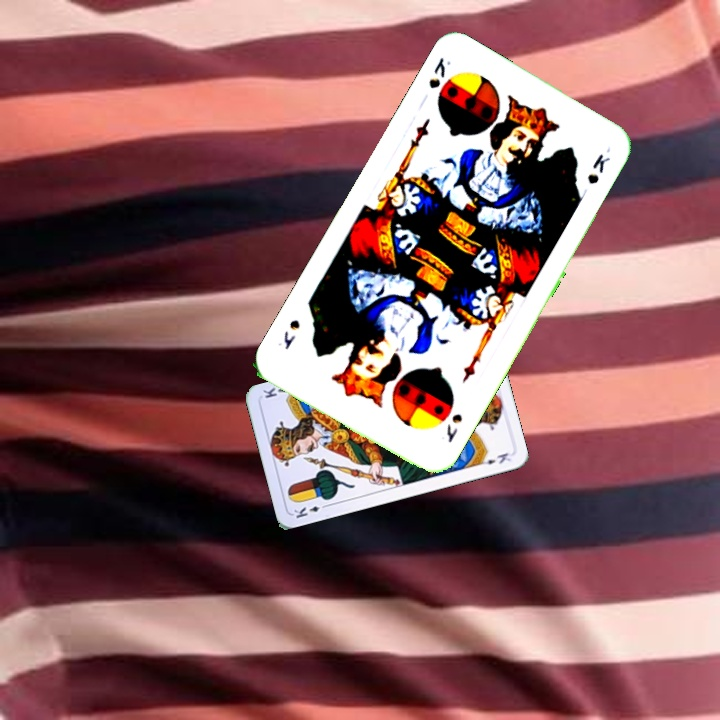EK: (290, 500, 330, 521)
SK: (424, 53, 454, 91), (442, 409, 465, 446)
